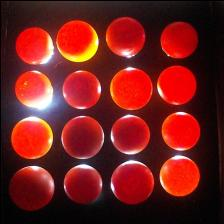fertile: (7, 164, 54, 210), (109, 159, 153, 204), (60, 114, 103, 158), (62, 164, 102, 204), (110, 114, 150, 154), (61, 69, 101, 109), (104, 16, 144, 56), (160, 20, 198, 58)
infertile: (109, 66, 152, 110), (56, 18, 98, 62), (10, 115, 52, 158), (158, 154, 199, 196), (160, 110, 200, 150), (156, 64, 196, 104), (14, 69, 52, 108), (14, 26, 52, 65)
